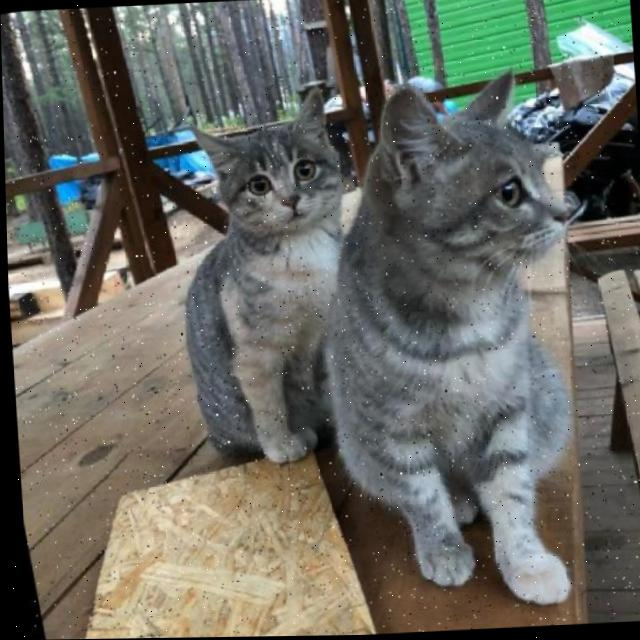Cats: (279, 37, 637, 610), (104, 84, 408, 499)
